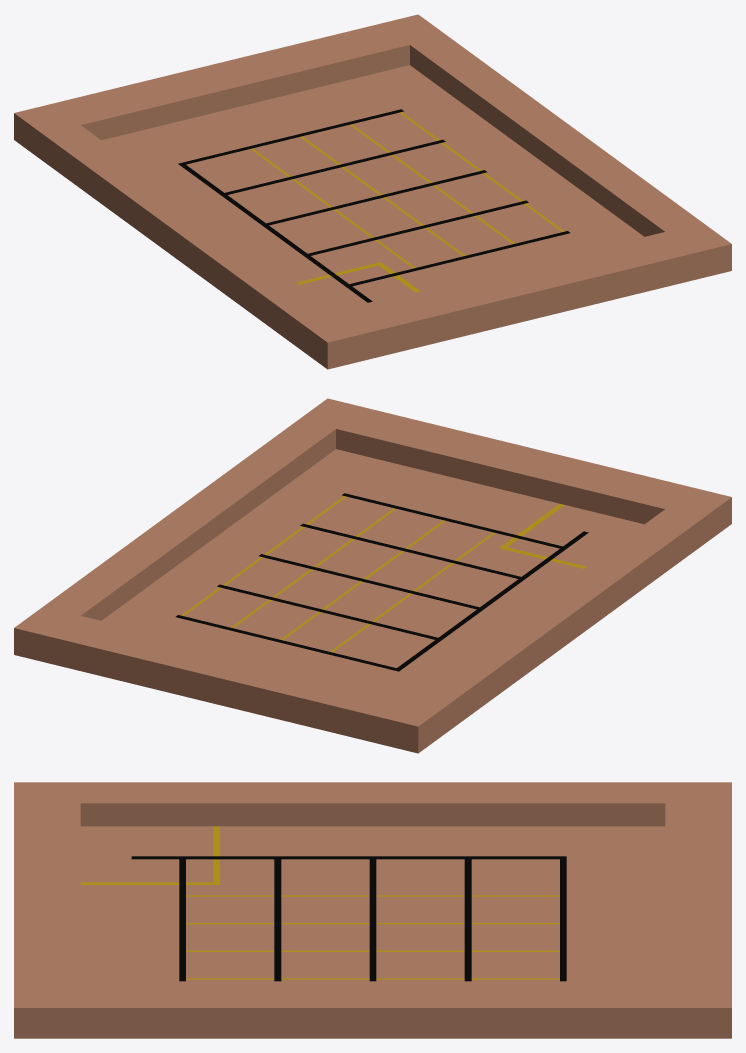
Rendered from GameSpace.fbx.
The picture shows the model from 3 angles, top to bottom: view 1: azimuth 30°, elevation 25°; view 2: azimuth 150°, elevation 25°; view 3: azimuth 270°, elevation 25°; orthographic projection. The views are drawn at different scales.
Visible parts, largest first — view 1: Deska; view 2: Deska; view 3: Deska.
Part boxes in pixels (x1=…): Deska: x1=14, y1=14, x2=731, y2=369; Deska: x1=14, y1=398, x2=731, y2=753; Deska: x1=14, y1=782, x2=731, y2=1038.
Size of the model in its own units: 211 by 157 by 10.
